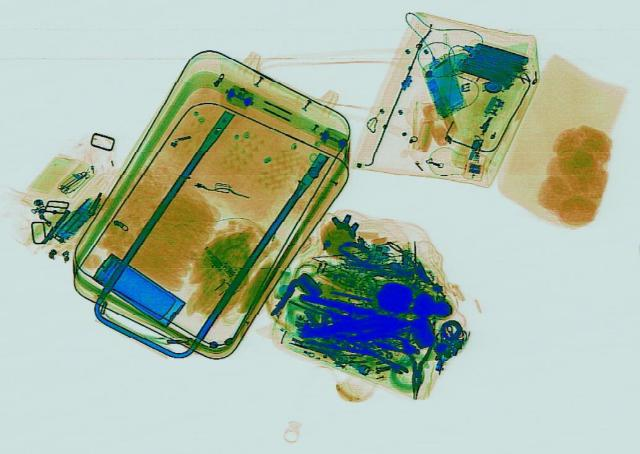Pliers: (401, 320, 434, 395)
Wrench: (359, 344, 411, 374)
